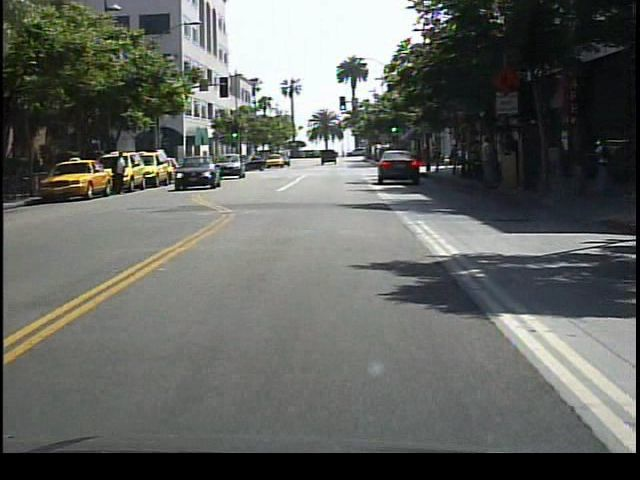person: (476, 131, 501, 197), (113, 147, 131, 198)
